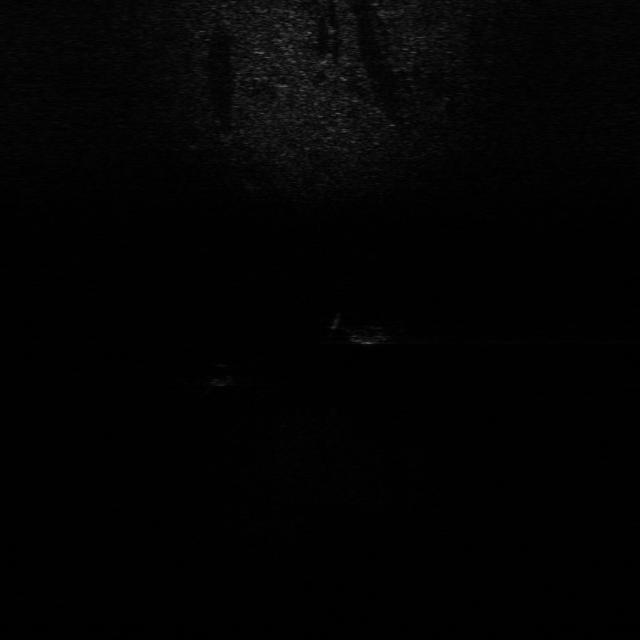ball: (196, 361, 233, 389)
human body: (326, 309, 413, 352)
